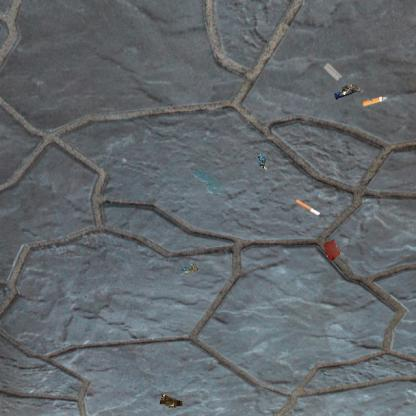dirty: (332, 82, 363, 101), (293, 198, 320, 218), (322, 61, 342, 82), (158, 393, 182, 408), (178, 260, 200, 276), (361, 95, 387, 108), (256, 151, 269, 173)
liquid: (192, 167, 221, 196), (322, 238, 342, 261)
